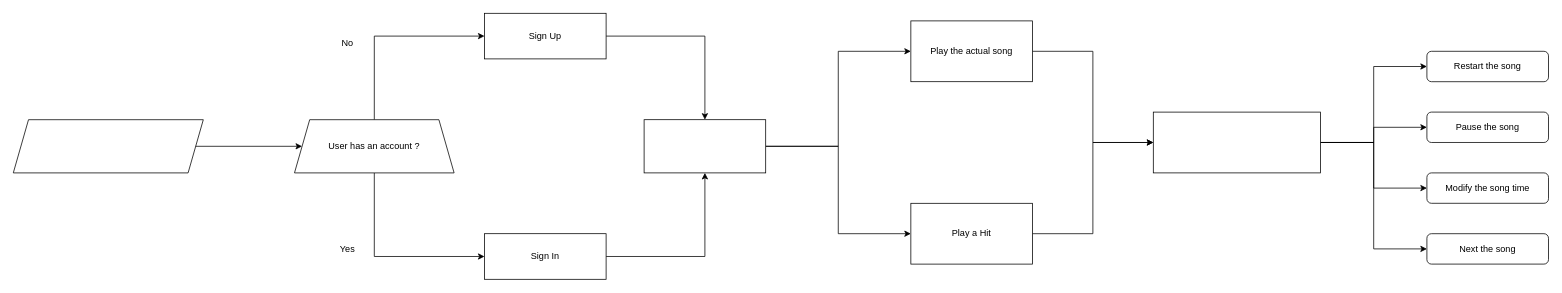
Some shapes in this 1562 by 293 pixel diagram are drawn without their labels. The centre of each missing label's shape, as x and y in pixels:
Entry Point. Welcome Page: (x=108, y=146)
Home Page: (x=704, y=146)
Music Player: (x=1236, y=142)
